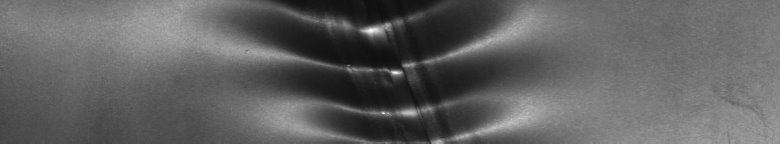ke: (247, 4, 518, 136)
